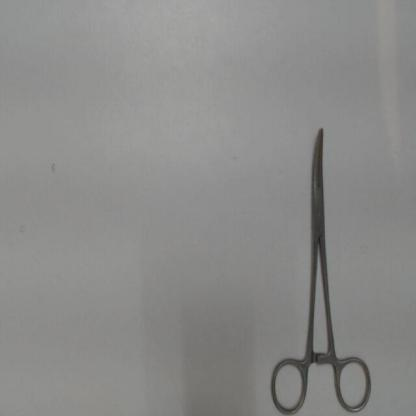Crile Artery Forceps: (266, 119, 380, 416)
